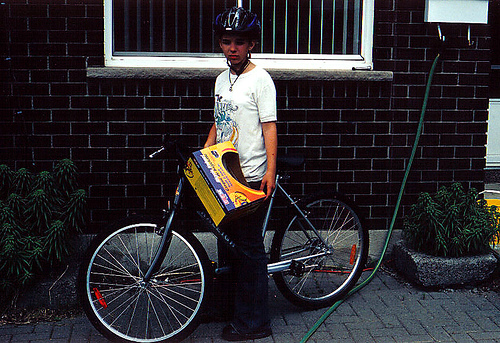without_mask: (218, 35, 255, 66)
